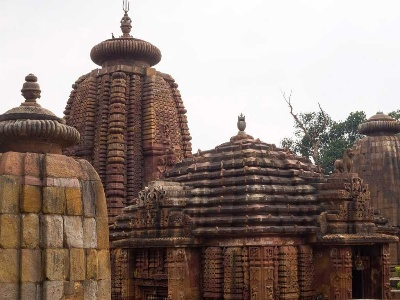amalaka: (2, 94, 87, 149), (81, 27, 171, 70), (352, 109, 400, 134)
gopuram: (48, 59, 205, 229)
